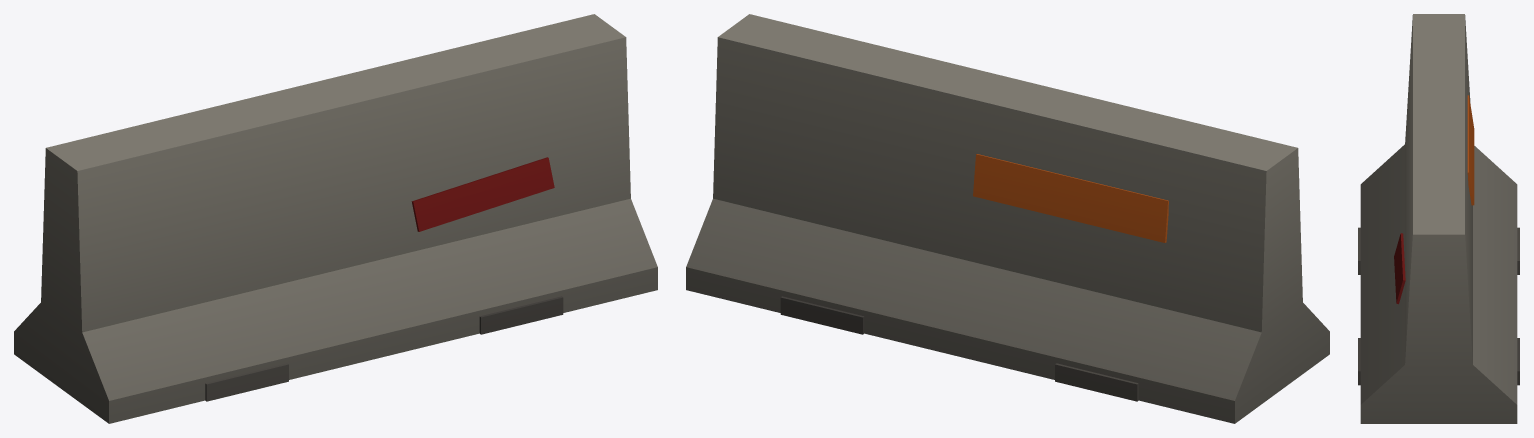
The model's file is barricade_jersey.glb.
3 views of the same model, side by side, from view 1: azimuth 30°, elevation 25°; view 2: azimuth 150°, elevation 25°; view 3: azimuth 270°, elevation 25° (orthographic). The views are drawn at different scales.
Visible parts, largest first — view 1: barricade_jersey; view 2: barricade_jersey; view 3: barricade_jersey.
Part boxes in pixels (box(x1,y1,x2,y2)): barricade_jersey: box(14, 14, 657, 423); barricade_jersey: box(686, 14, 1329, 423); barricade_jersey: box(1358, 14, 1519, 423).
Size of the model in its own units: 2 by 0.8 by 0.62.
